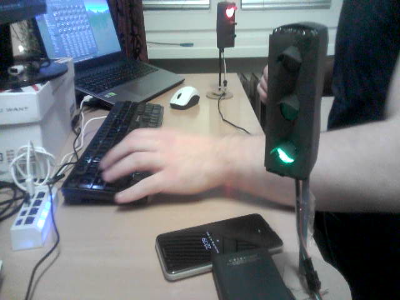trafficlight_green: (268, 31, 315, 169)
trafficlight_red: (221, 5, 237, 47)
